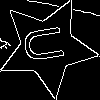U: (22, 22, 74, 65)
